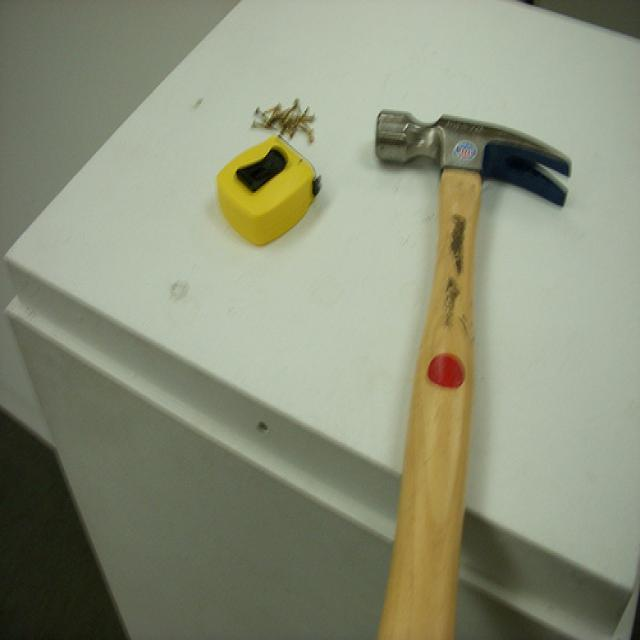hammer: (358, 94, 575, 640)
